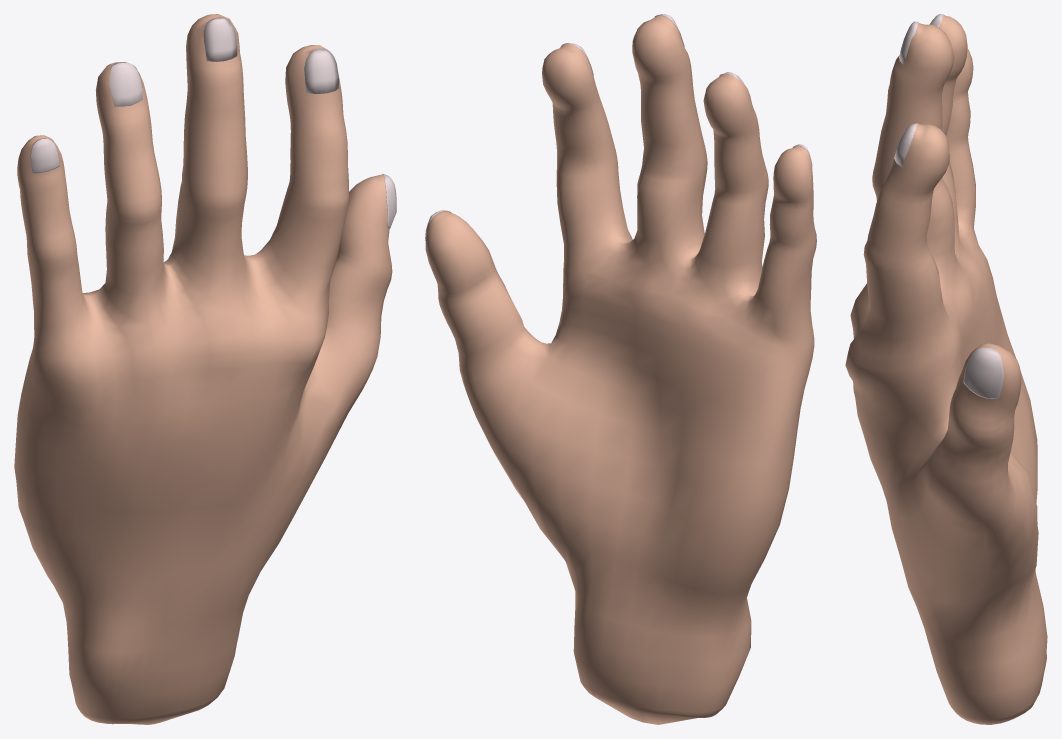
Rendered from hand-v1.glb.
The picture shows the model from 3 angles, left to right: view 1: azimuth 30°, elevation 25°; view 2: azimuth 150°, elevation 25°; view 3: azimuth 270°, elevation 25°; orthographic projection. The views are drawn at different scales.
Visible parts, largest first — view 1: palm, index, middle, ring, pinky; view 2: palm; view 3: palm, thumb, index.
Part boxes in pixels (left/top/right/bottom): palm: left=14, top=14, right=392, bottom=724; index: left=304, top=48, right=339, bottom=93; middle: left=203, top=17, right=237, bottom=61; ring: left=109, top=62, right=142, bottom=106; pinky: left=30, top=138, right=59, bottom=173; palm: left=425, top=15, right=816, bottom=724; palm: left=845, top=15, right=1047, bottom=724; thumb: left=963, top=347, right=1003, bottom=398; index: left=894, top=123, right=917, bottom=167.
Bounding box in the file's own units: 5.62 × 9.86 × 2.58.
